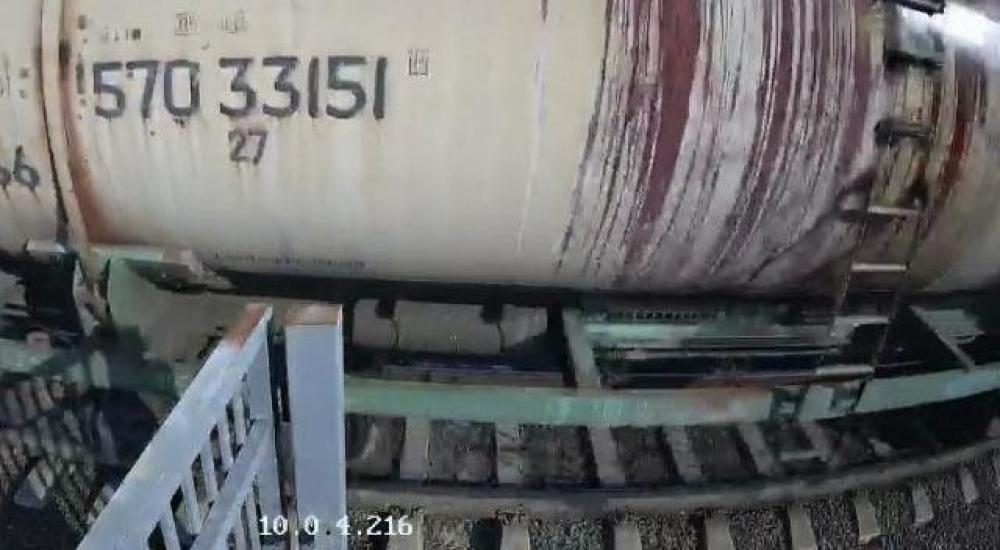Wagon-number: (87, 51, 396, 126)
